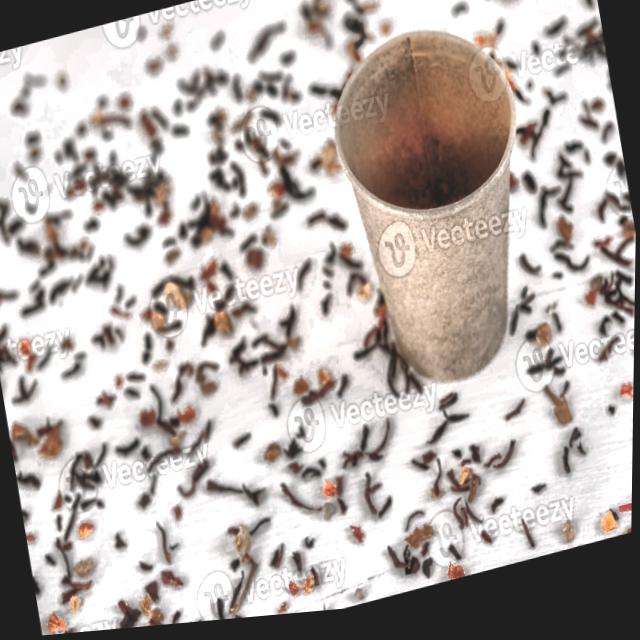Cup: (314, 1, 572, 424)
